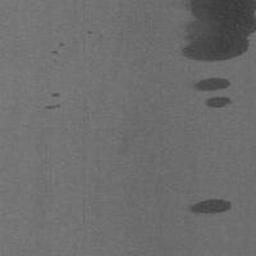Oil spot: (166, 0, 256, 63), (187, 198, 233, 215), (189, 76, 232, 92), (204, 95, 233, 109), (42, 102, 61, 110), (86, 29, 95, 36), (50, 49, 60, 55), (50, 92, 61, 97)
